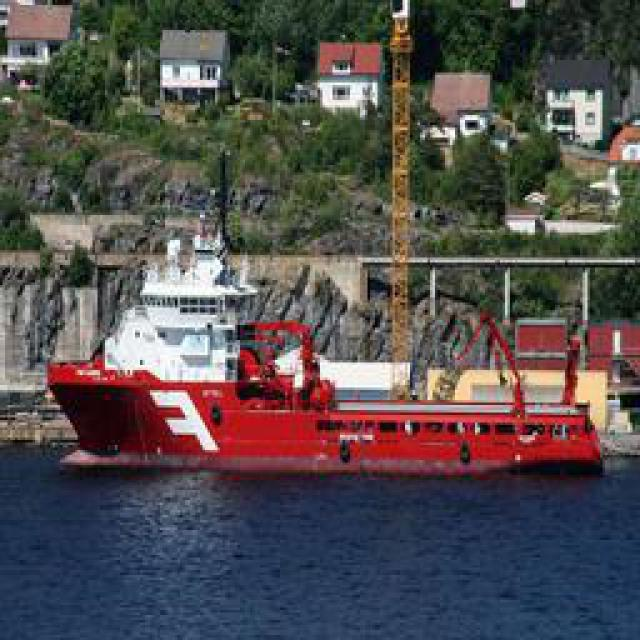Ship: (46, 297, 596, 477)
